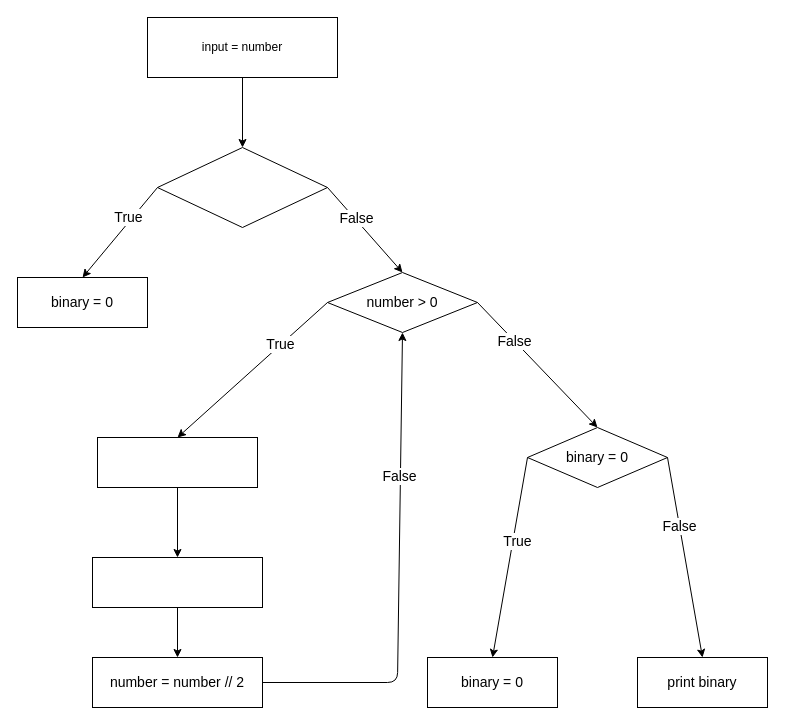
Some shapes in this 785 by 725 pixel diagram are drawn without their labels. The box of each missing label's shape, as (x1, y1, x2, y2) in pixels:
binary = remainder + binary: (92, 556, 262, 608)
number = 0: (156, 146, 328, 228)
remainder = number % 2: (96, 436, 258, 488)
